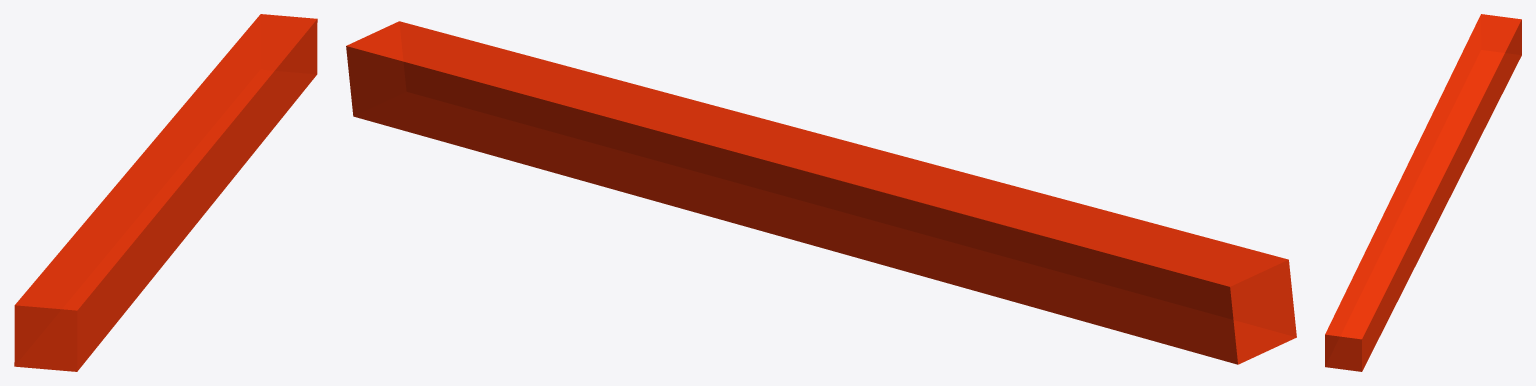
File: Event_421556567_EErechit_12.fbx
3 views of the same model, side by side, from view 1: azimuth 90°, elevation 25°; view 2: azimuth 150°, elevation 25°; view 3: azimuth 270°, elevation 25° (orthographic). The views are drawn at different scales.
Parts seen in each view (by area): view 1: Model; view 2: Model; view 3: Model.
Boxes of the visible parts, <box> form: Model: <box>14,14,317,371</box>; Model: <box>346,21,1296,364</box>; Model: <box>1325,14,1521,371</box>.
Bounding box in the file's own units: 1.18 × 0.2114 × 0.3748.
